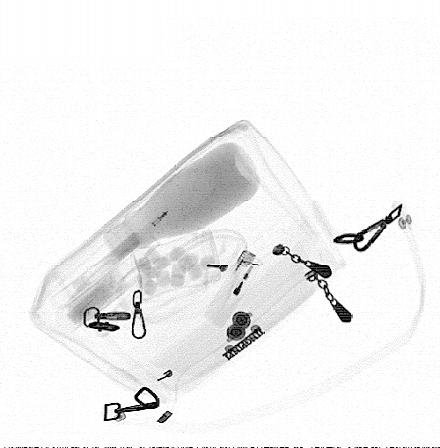Lighter: (205, 249, 263, 326)
